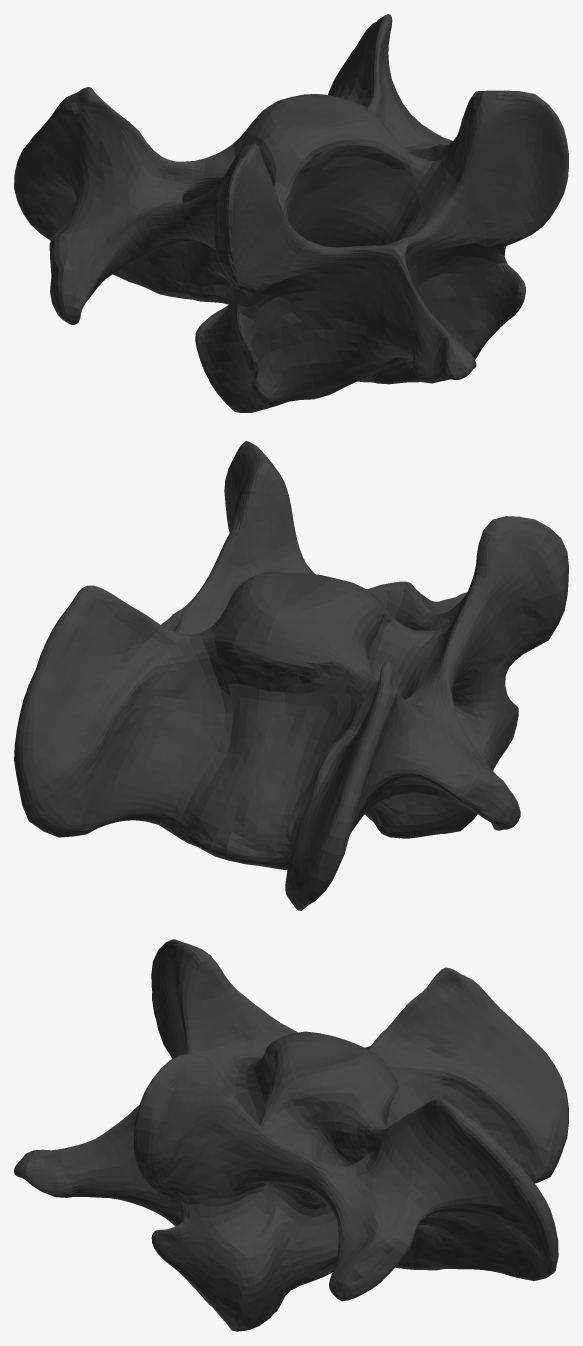
3 views of the same model, one above another, from view 1: azimuth 30°, elevation 25°; view 2: azimuth 150°, elevation 25°; view 3: azimuth 270°, elevation 25° (orthographic). The views are drawn at different scales.
Parts seen in each view (by area): view 1: c6_low; view 2: c6_low; view 3: c6_low.
Boxes of the visible parts, bbox=[...] form: c6_low: bbox=[14, 14, 568, 412]; c6_low: bbox=[14, 441, 568, 910]; c6_low: bbox=[14, 939, 568, 1331].
Size of the model in its own units: 52.22 by 34.43 by 60.46.
Materials: 1 (1 with a texture image).
